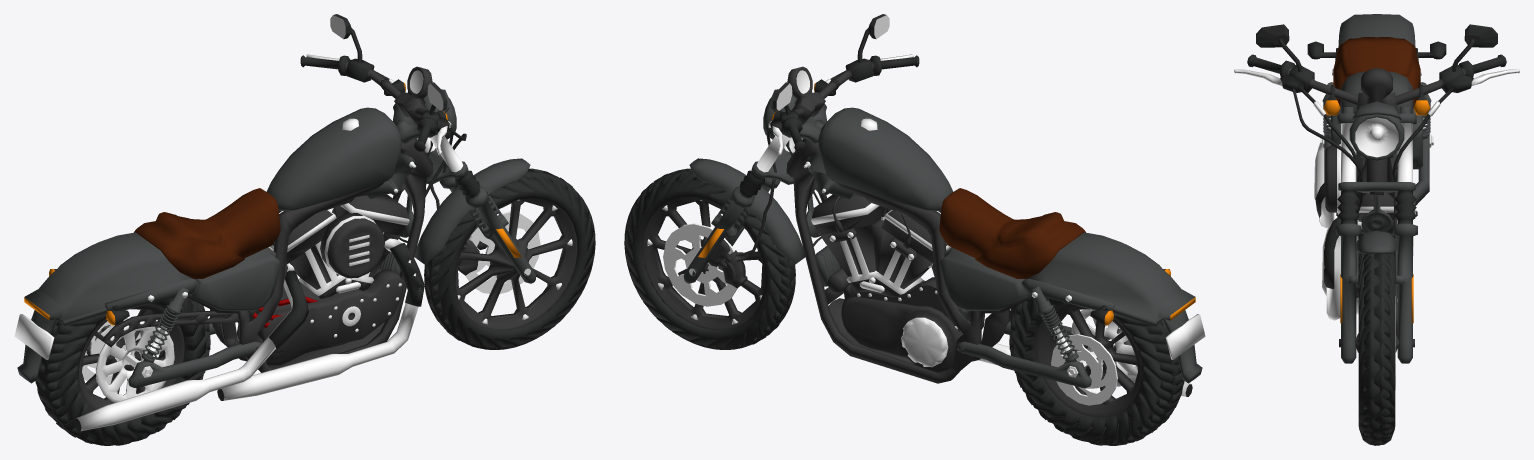
The model's file is harley-iron883.glb.
3 views of the same model, side by side, from view 1: azimuth 30°, elevation 25°; view 2: azimuth 150°, elevation 25°; view 3: azimuth 270°, elevation 25° (orthographic). The views are drawn at different scales.
Parts seen in each view (by area): view 1: body, wheel_front_mesh, wheel_rear_mesh; view 2: body, wheel_front_mesh, wheel_rear_mesh; view 3: body, wheel_front_mesh.
Part boxes in pixels (box(x1,y1,x2,y2)): body: box(14, 14, 572, 431); wheel_front_mesh: box(424, 168, 595, 349); wheel_rear_mesh: box(35, 297, 210, 445); body: box(647, 14, 1205, 396); wheel_front_mesh: box(624, 168, 795, 349); wheel_rear_mesh: box(1009, 297, 1184, 445); body: box(1234, 14, 1519, 363); wheel_front_mesh: box(1339, 253, 1414, 445).
Size of the model in its own units: 2.19 by 1.19 by 0.8865.
